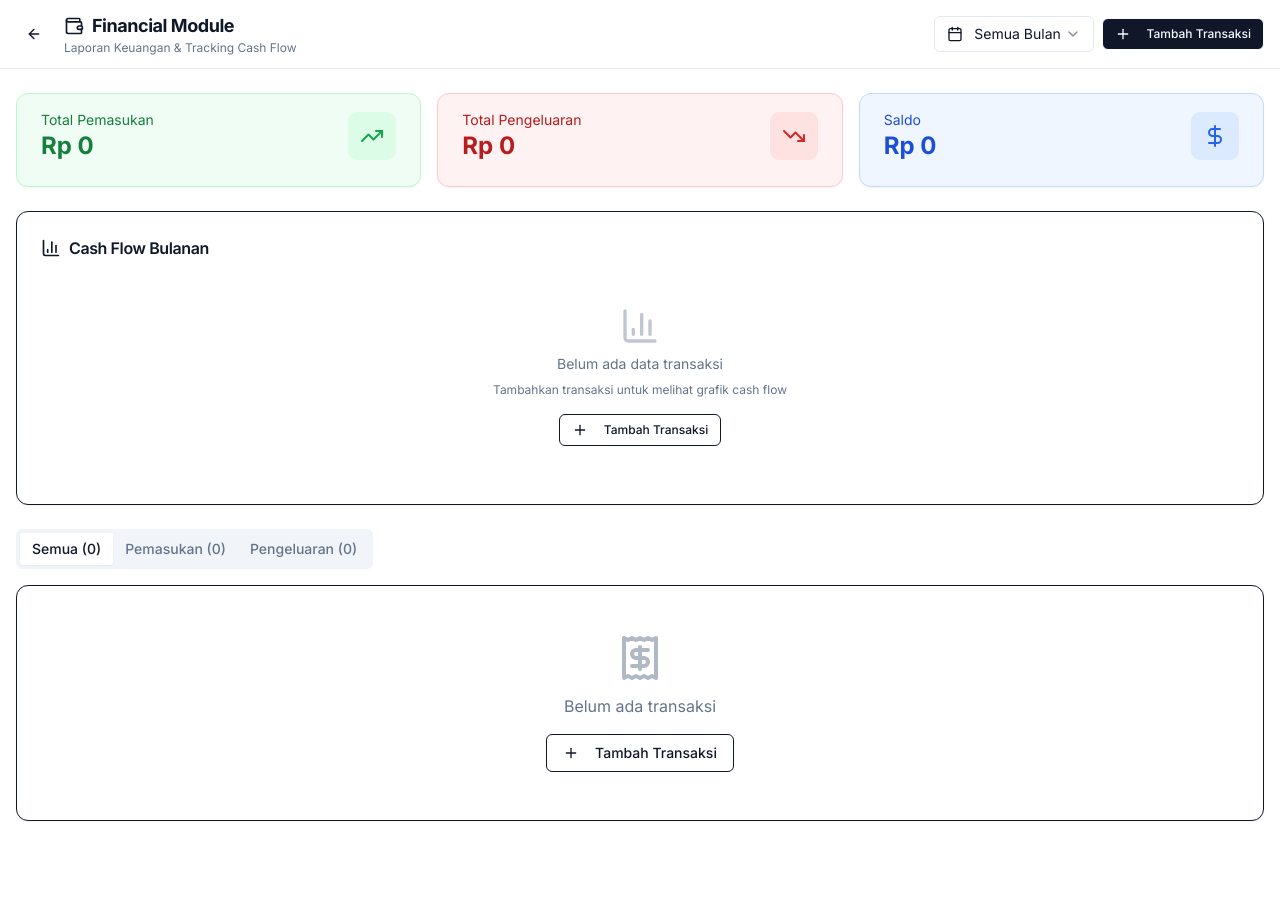
Scenario: FinancialModule – mobile header controls (375 px viewport) › dialog can be dismissed via the Batal button after opening from the icon
This screenshot has width=1280, height=900.
What coordinates should you click on to do the following:
click the button with test id "button-add-transaction"
I would click on:
 (1183, 34)
Its box is [1102,18,1264,50].
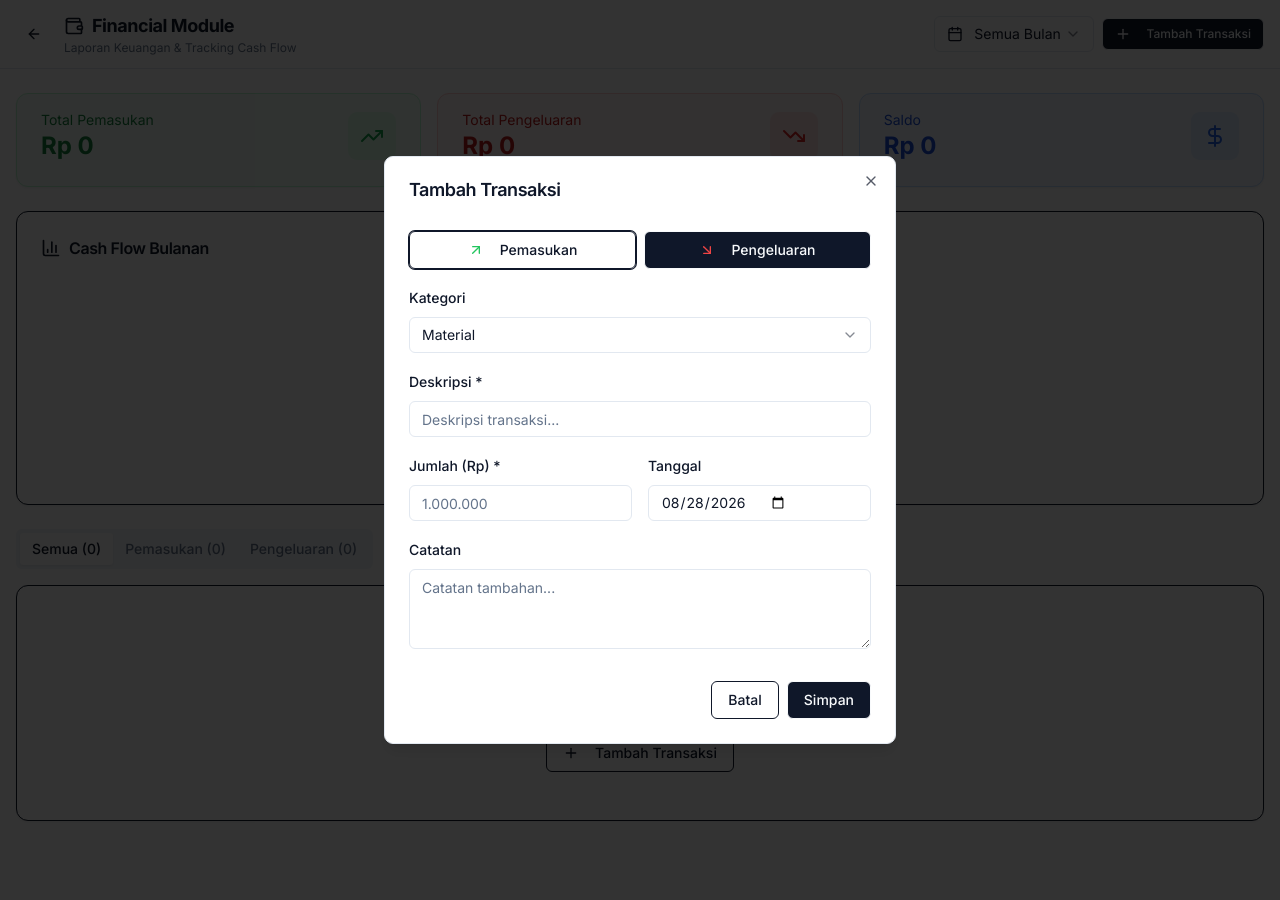
Expected: the dialog is shown, [384,156,896,744]
What coordinates should you click on to do the following:
click the button "Batal"
I would click on:
 (745, 700)
Its box is [711,681,779,719].
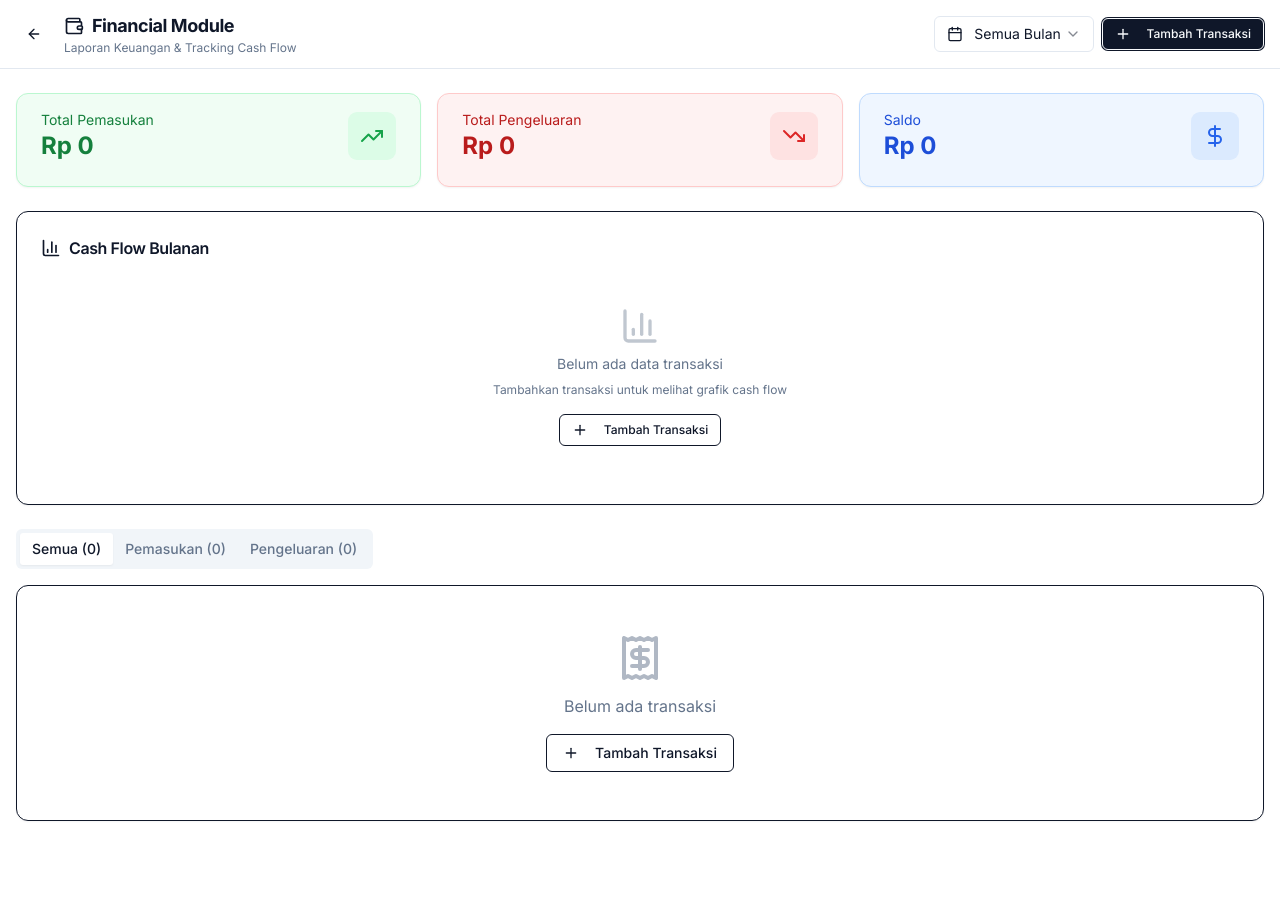
Expected: the dialog is gone
